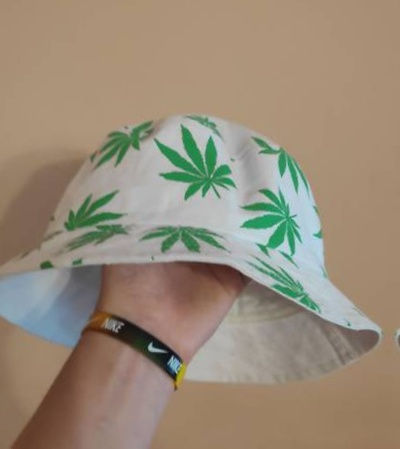Hat: (0, 80, 400, 398), (388, 112, 400, 430)
